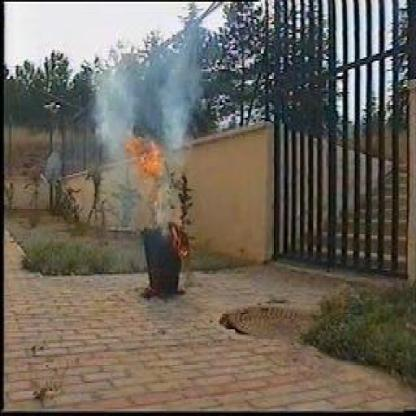-: (92, 45, 197, 134)
foggia-v2-map80-epoch100 - v1 4323: (126, 134, 163, 172)
